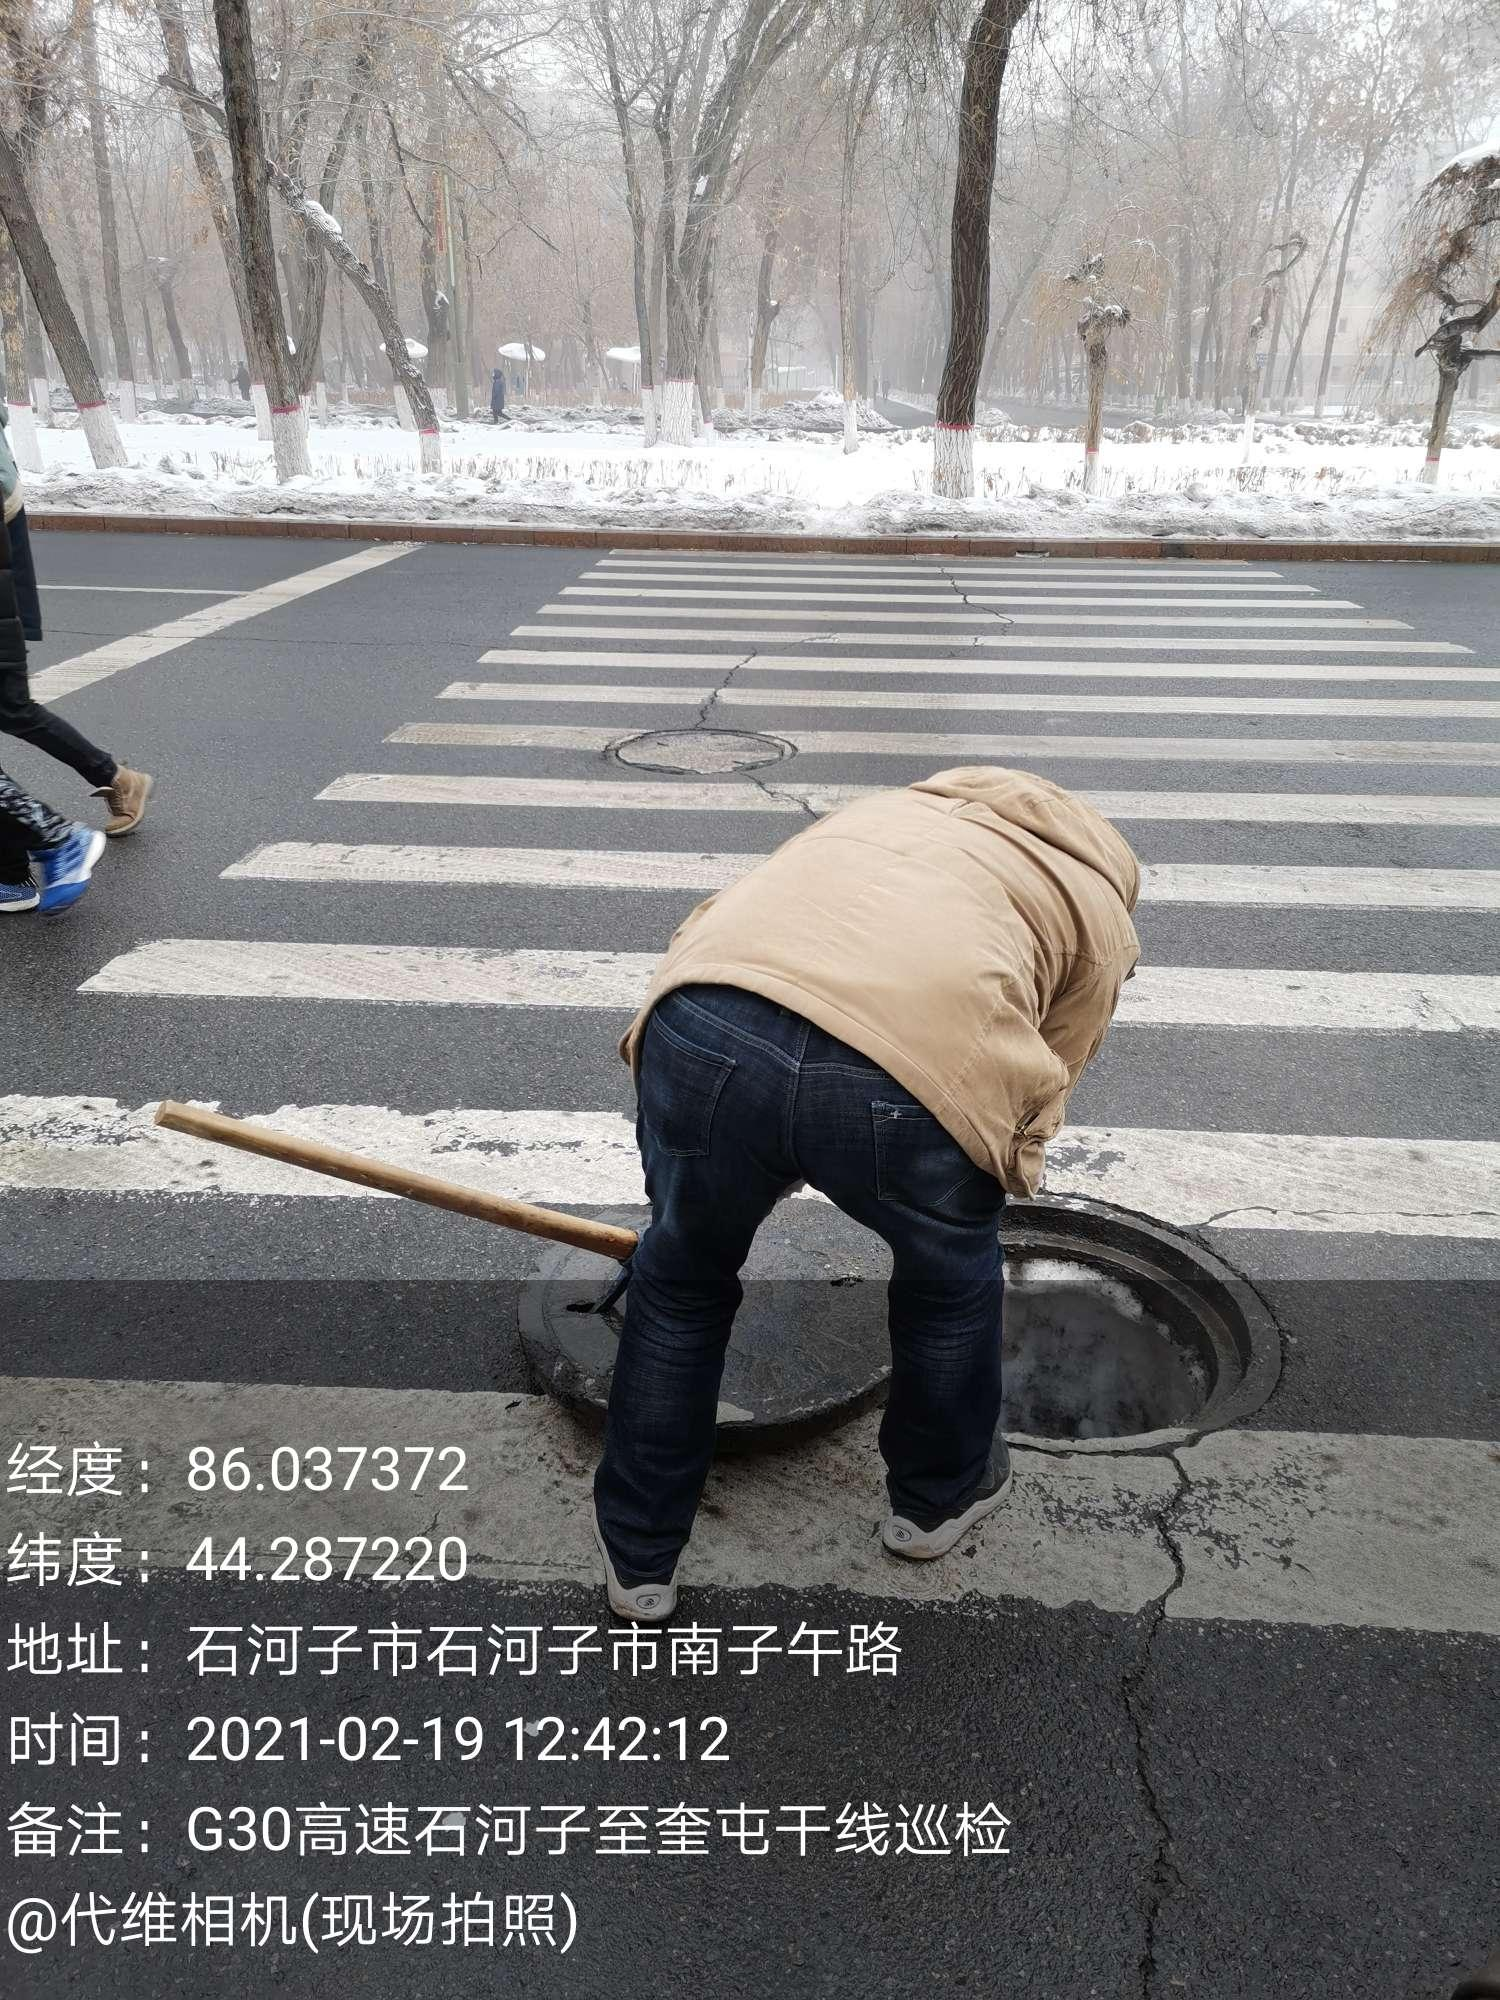wellcover: (561, 1126, 1289, 1469)
